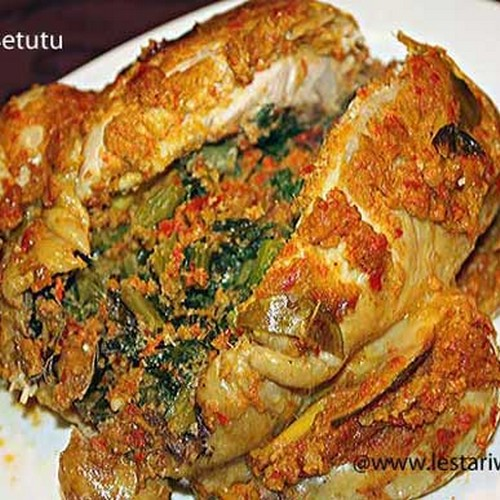ayam betutu: (38, 63, 499, 365)
